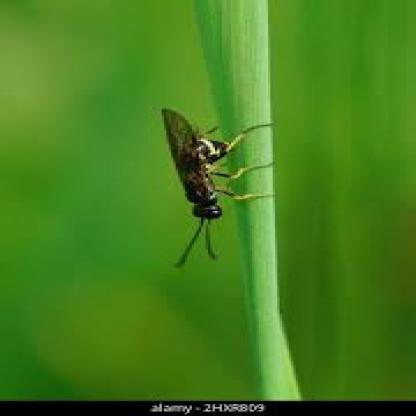sawfly: (153, 99, 295, 272)
